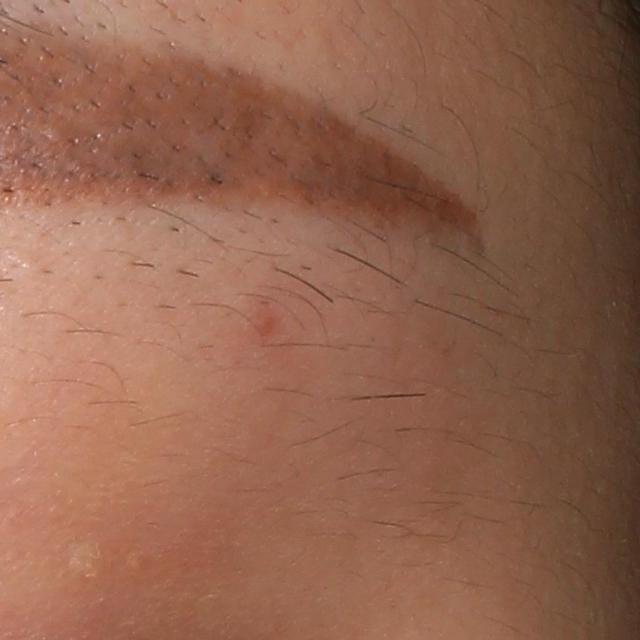other: (63, 536, 112, 578)
